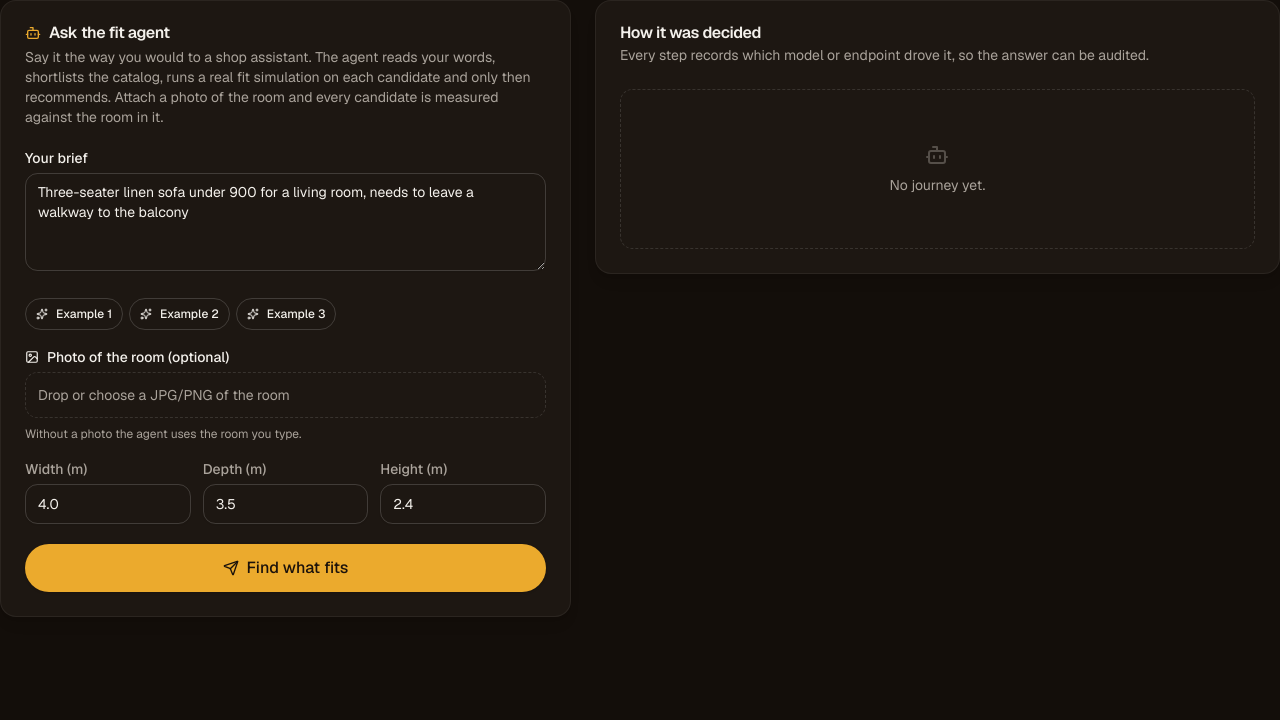
Test: FitAgent › starts a journey from the shopper's own words and shows the room it heard
Step 1. Replace the text in the text box labelled "Your brief" with "a 2 door wardrobe, max 600" → coordinates (285, 222), box [25,173,546,271]
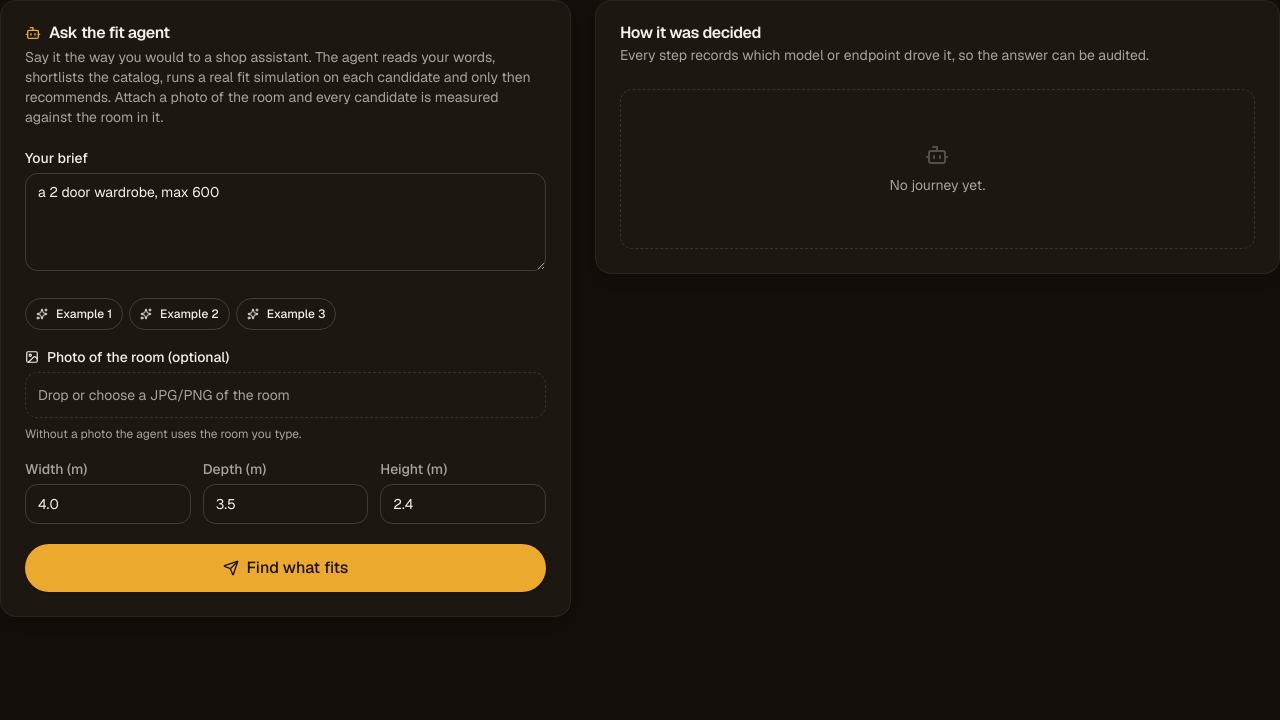
Step 2. Click the button "Find what fits" → coordinates (285, 568), box [25,544,546,592]
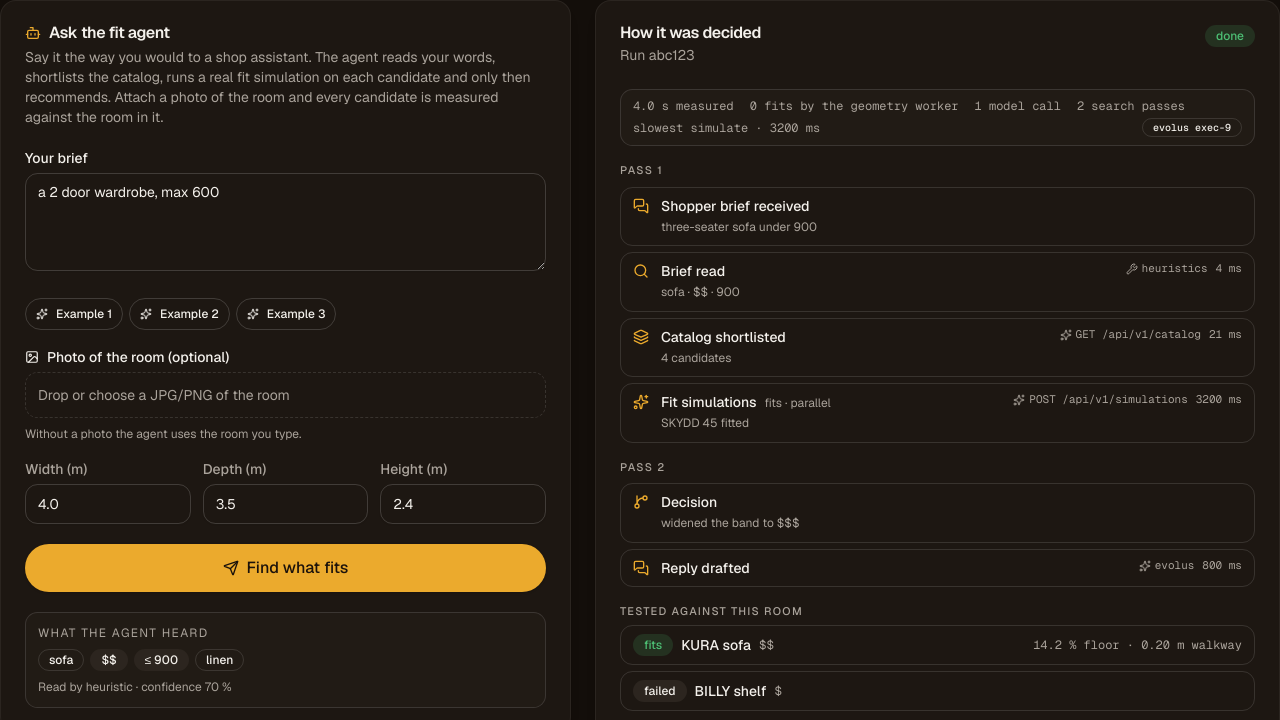
Expected: the text "sofa" is shown, [38,649,84,671]
Expected: the text "Read by heuristic · confidence 70 %" is shown, [38,679,232,695]
